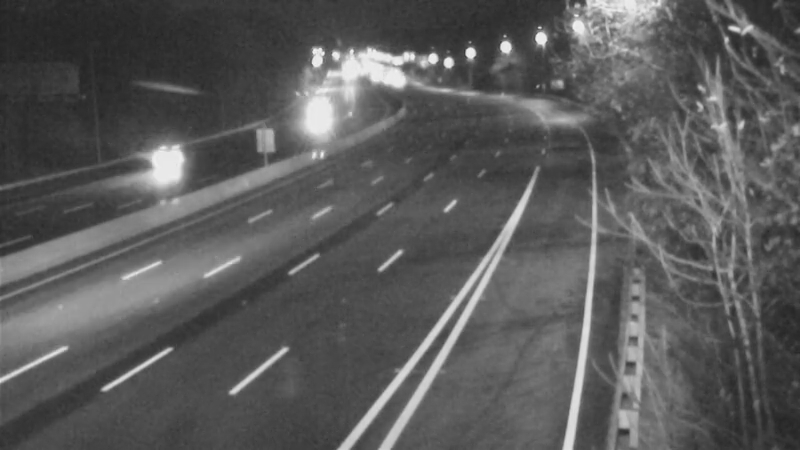vehicle: (134, 129, 214, 209), (349, 58, 399, 108), (372, 56, 422, 106), (294, 85, 344, 135)
